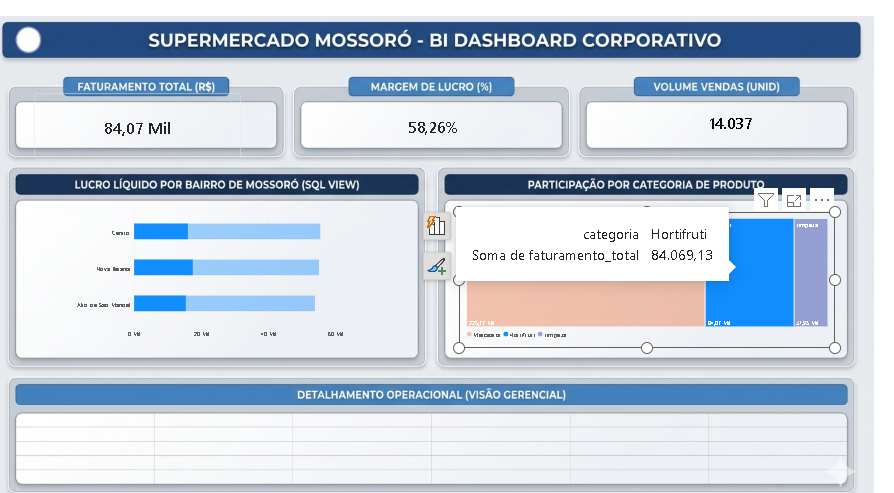

What the dashboard file says about the page in this screenshot:
{"tool":"powerbi","page":{"name":"Página 1","canvas":[1920,1080],"ordinal":0},"visuals":[{"type":"cardVisual","fields":{"Data":["Sum(vw_dashboard_vendas.faturamento_total)"]},"box":[101.5,183.6,447.1,144.7],"z":0},{"type":"cardVisual","fields":{"Data":["vw_dashboard_vendas.Margem Lucro %"]},"box":[693.5,158,540.1,195.8],"z":1},{"type":"cardVisual","fields":{"Data":["vw_dashboard_vendas.Total Unidades Vendidas"]},"box":[1292.6,184,627.4,127.4],"z":2},{"type":"clusteredBarChart","fields":{"Category":["vw_dashboard_vendas.bairro"],"Y":["Sum(vw_dashboard_vendas.lucro_liquido)"]},"box":[160.8,412.5,627.9,321.5],"z":4},{"type":"treemap","fields":{"Group":["vw_dashboard_vendas.categoria"],"Values":["Sum(vw_dashboard_vendas.faturamento_total)"]},"box":[1019.1,439.8,812.9,294.2],"z":5}]}

Visuals, with their boxes in screenshot pixels (x1, y1, x2, y2), scaled from the page's 1920x1080 canvas onto the 894x493 screenshot:
cardVisual - Sum(vw_dashboard_vendas.faturamento_total): left=47, top=84, right=255, bottom=150
cardVisual - vw_dashboard_vendas.Margem Lucro %: left=323, top=72, right=574, bottom=162
cardVisual - vw_dashboard_vendas.Total Unidades Vendidas: left=602, top=84, right=893, bottom=142
clusteredBarChart - vw_dashboard_vendas.bairro x Sum(vw_dashboard_vendas.lucro_liquido): left=75, top=188, right=367, bottom=335
treemap - vw_dashboard_vendas.categoria x Sum(vw_dashboard_vendas.faturamento_total): left=475, top=201, right=853, bottom=335
